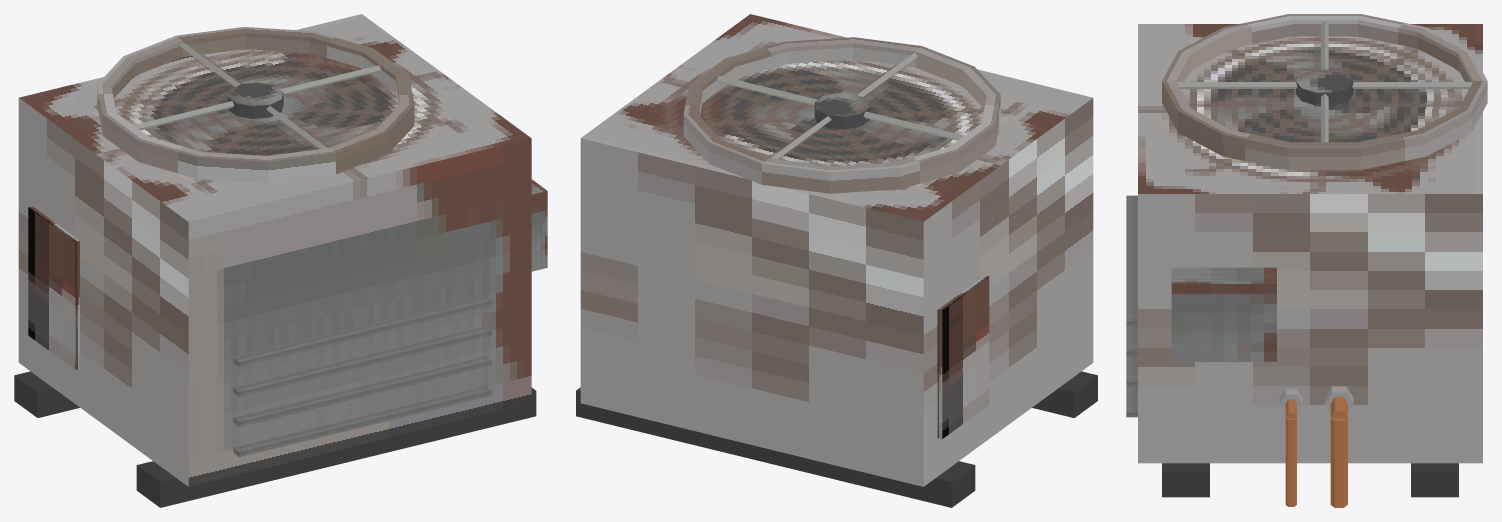
The model's file is Building_AncientAirConditioner.glb.
3 views of the same model, side by side, from view 1: azimuth 30°, elevation 25°; view 2: azimuth 150°, elevation 25°; view 3: azimuth 270°, elevation 25° (orthographic).
Parts seen in each view (by area): view 1: AncientAirConditioner; view 2: AncientAirConditioner; view 3: AncientAirConditioner.
Part boxes in pixels (bbox=[...]): AncientAirConditioner: bbox=[14, 14, 547, 507]; AncientAirConditioner: bbox=[576, 14, 1097, 507]; AncientAirConditioner: bbox=[1126, 14, 1487, 507].
Bounding box in the file's own units: 1.02 × 0.73 × 0.7545.
1 material, 1 textured.
